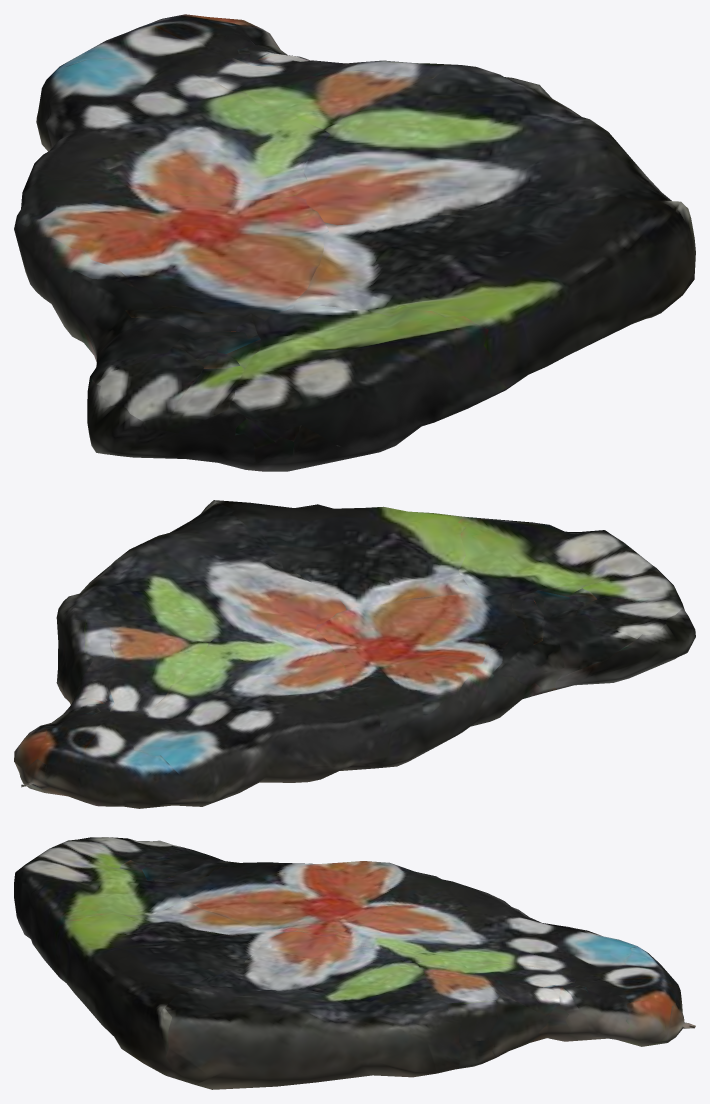
Rendered from hall.glb.
The picture shows the model from 3 angles, top to bottom: view 1: azimuth 30°, elevation 25°; view 2: azimuth 150°, elevation 25°; view 3: azimuth 270°, elevation 25°; orthographic projection. The views are drawn at different scales.
Size of the model in its own units: 0.5711 by 0.1 by 0.7334.
1 material, 1 textured.
